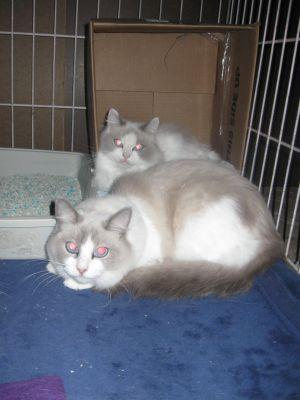ragdoll: (41, 194, 136, 294)
